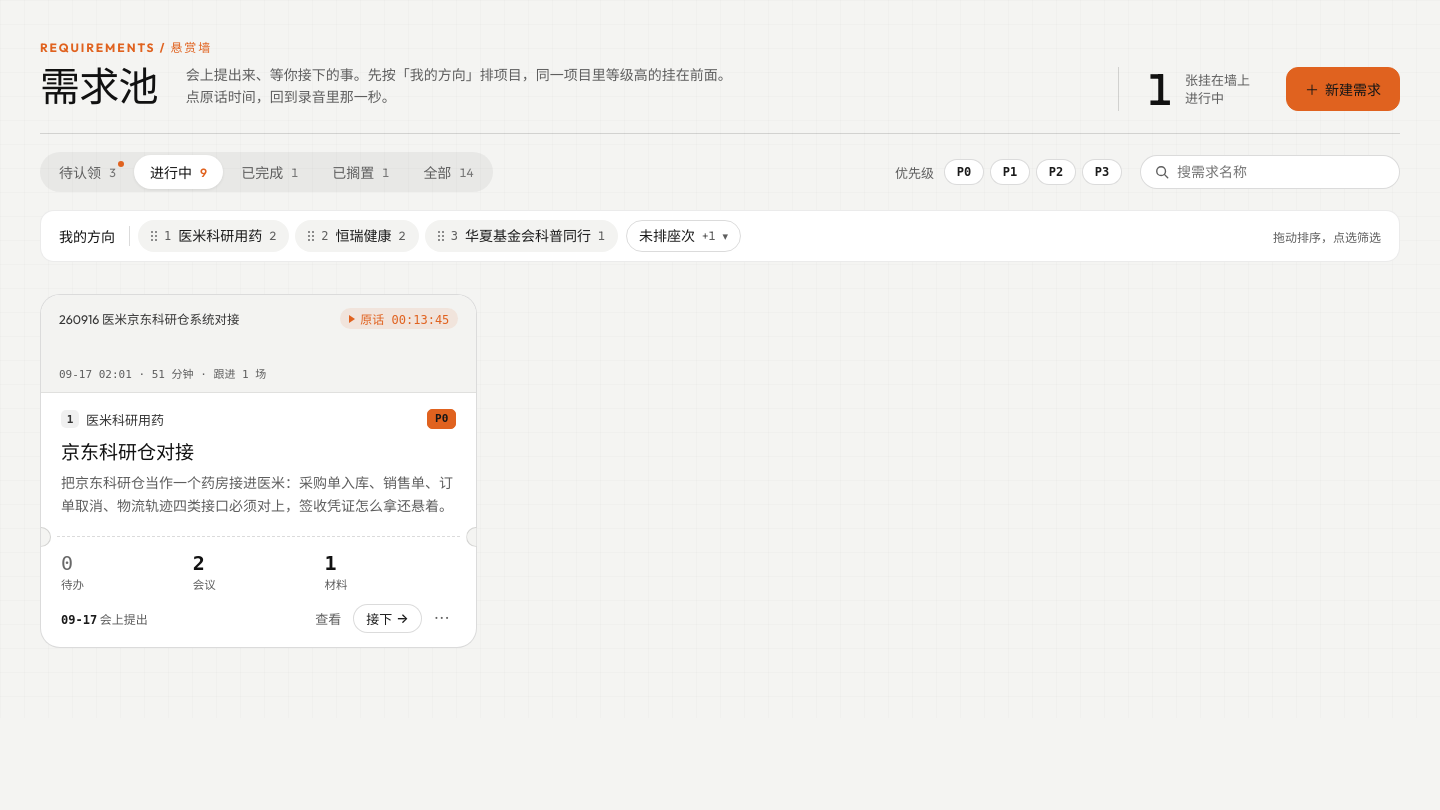
RequirementPoolPage › 优先级多选、点「我的方向」里的项目筛选，清空筛选一次全清
The width and height of the screenshot is (1440, 810).
Expected: the element named "需求：京东科研仓对接" is shown, x1=40 y1=294 x2=477 y2=648
Click the button "P0": (964, 172) x1=944 y1=159 x2=984 y2=185
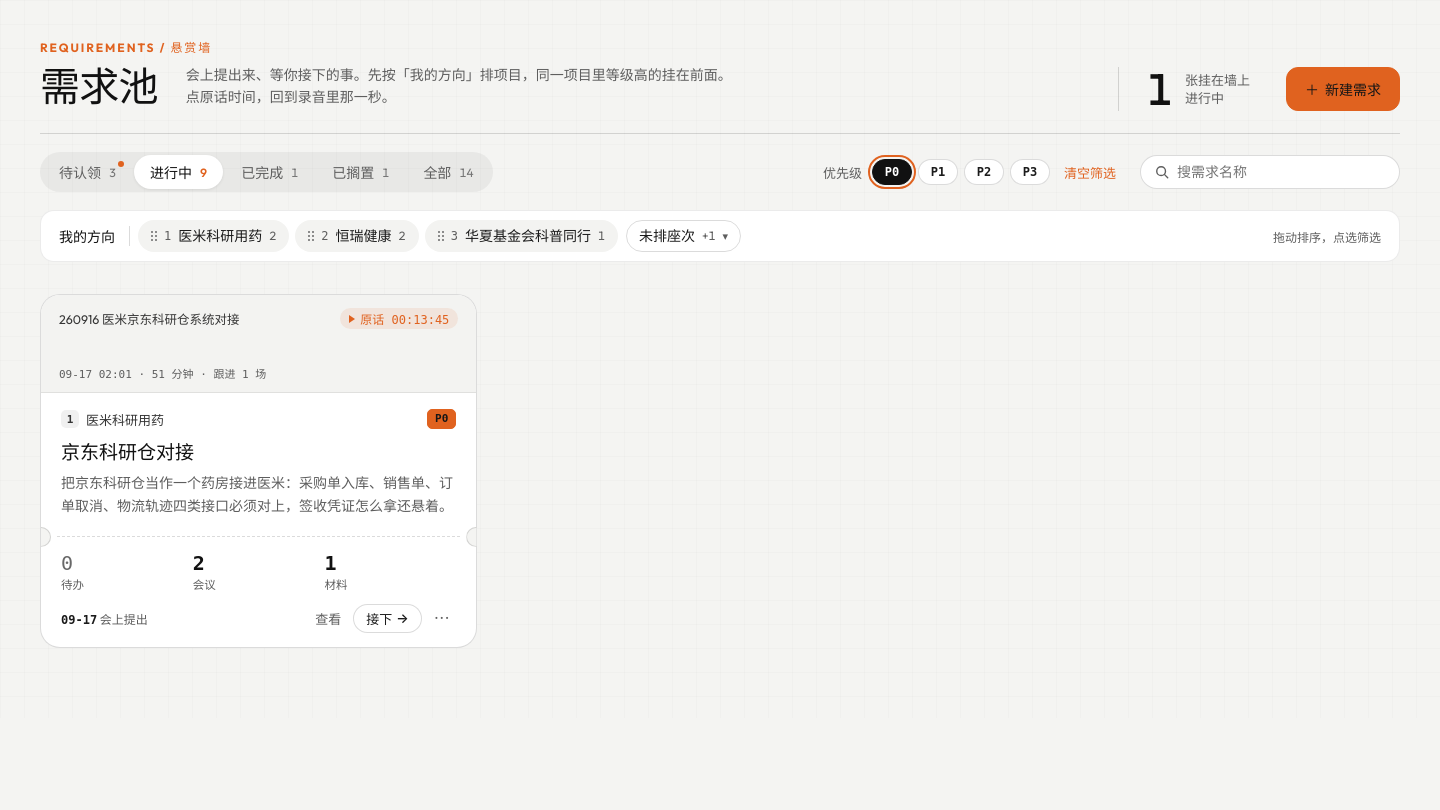
Click the button "P1": (938, 172) x1=918 y1=159 x2=958 y2=185
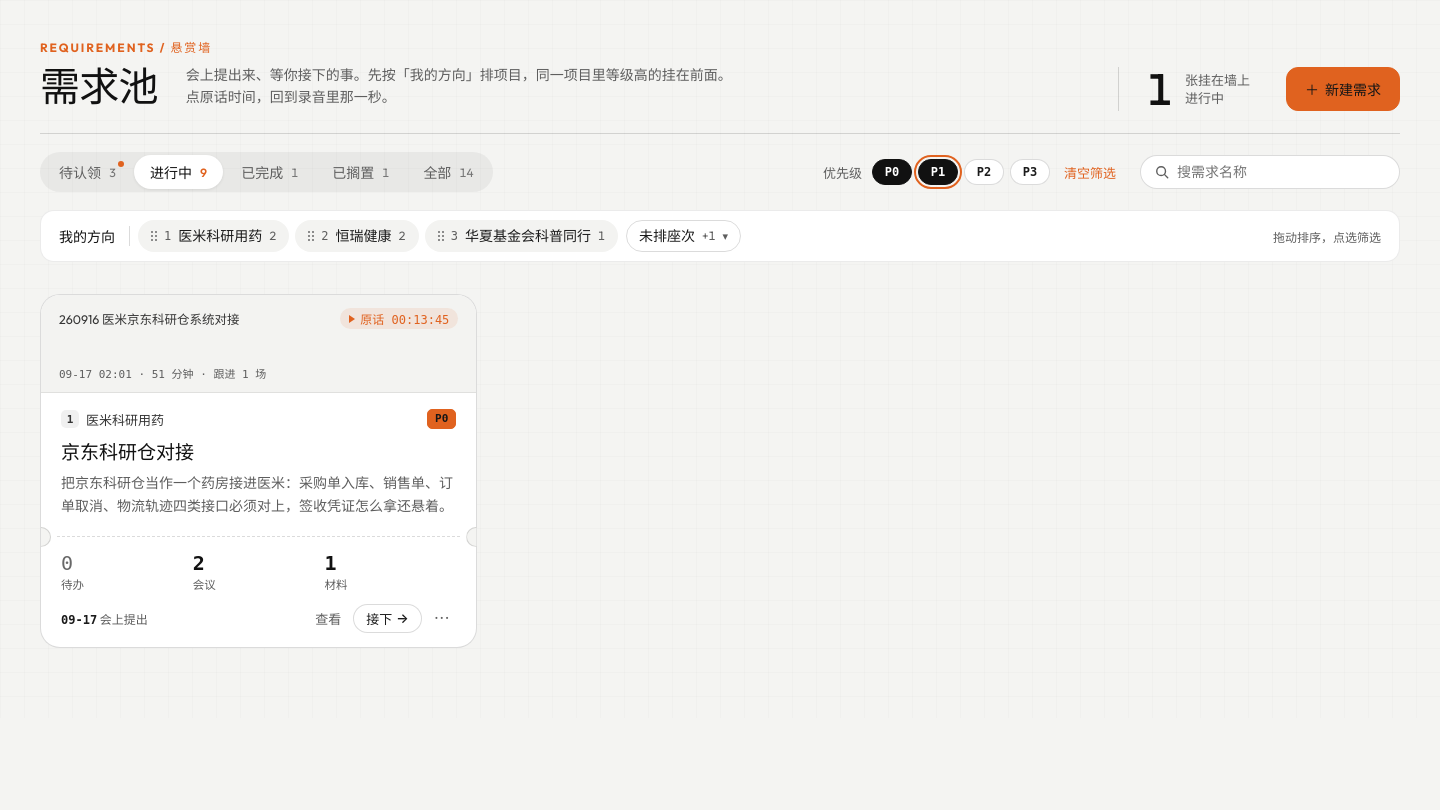
Click the button "1 医米科研用药 2": (214, 236) x1=138 y1=220 x2=289 y2=252
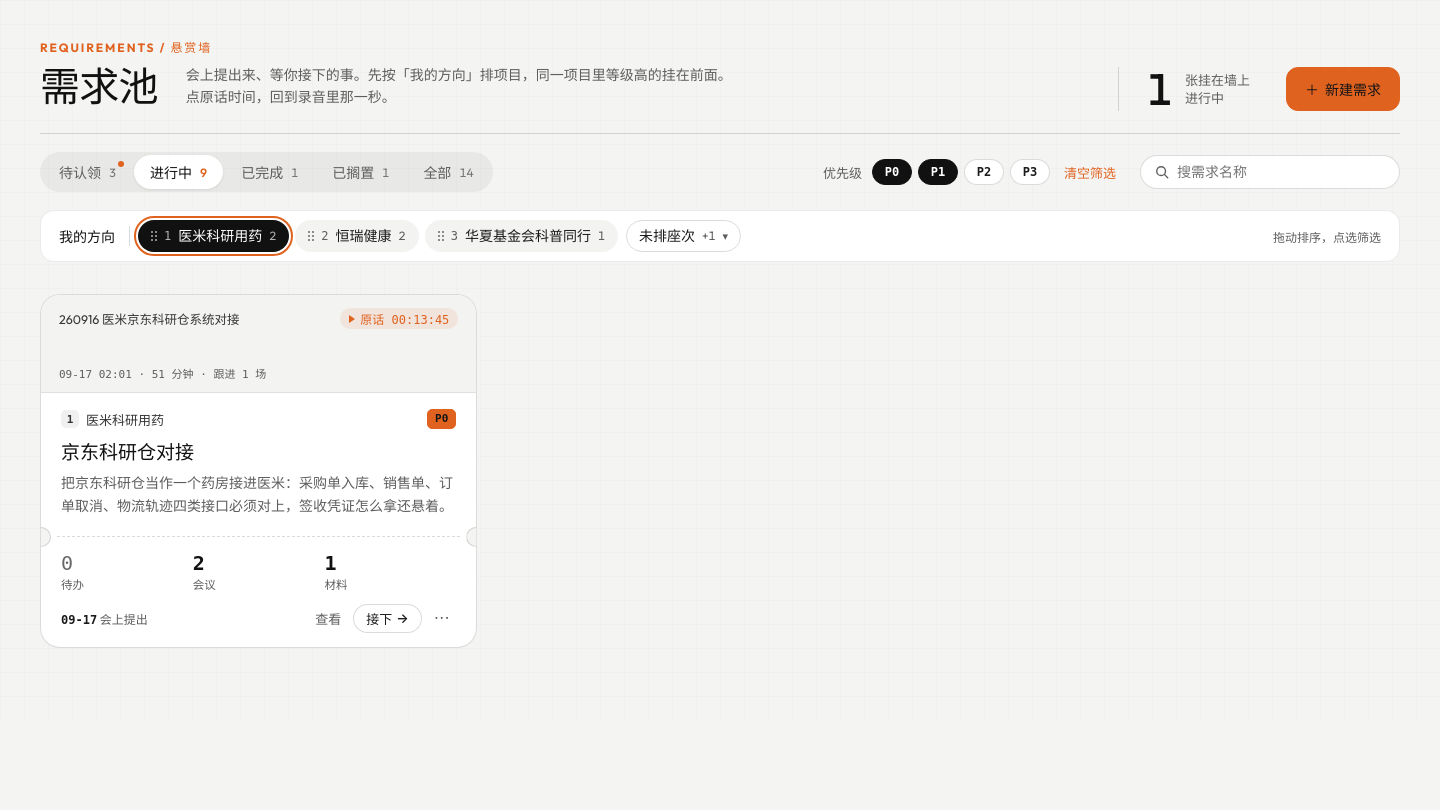
Click the button "清空筛选": (1090, 172) x1=1058 y1=158 x2=1122 y2=186
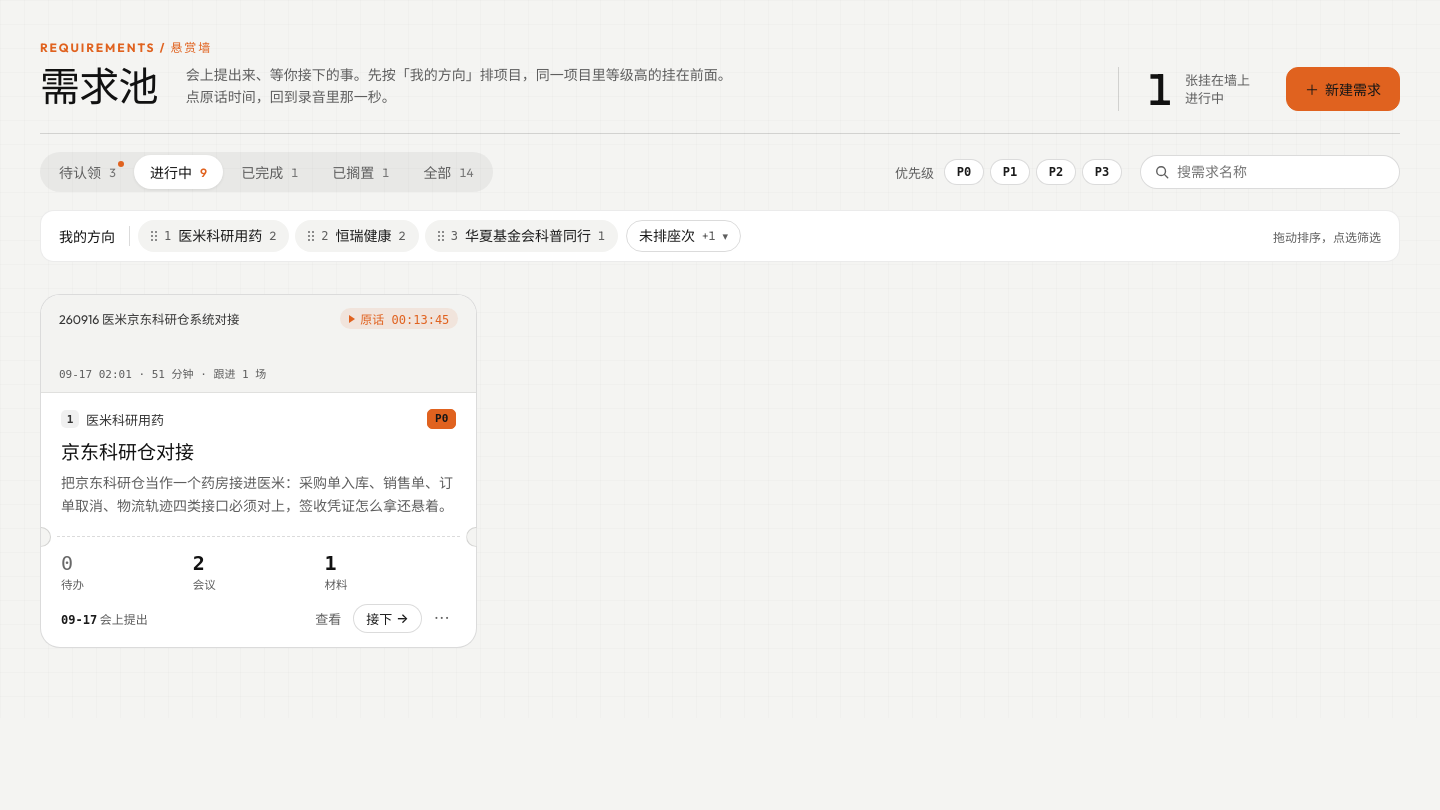
Expected: the button "清空筛选" is gone
